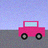vehicle: (18, 21, 45, 40)
